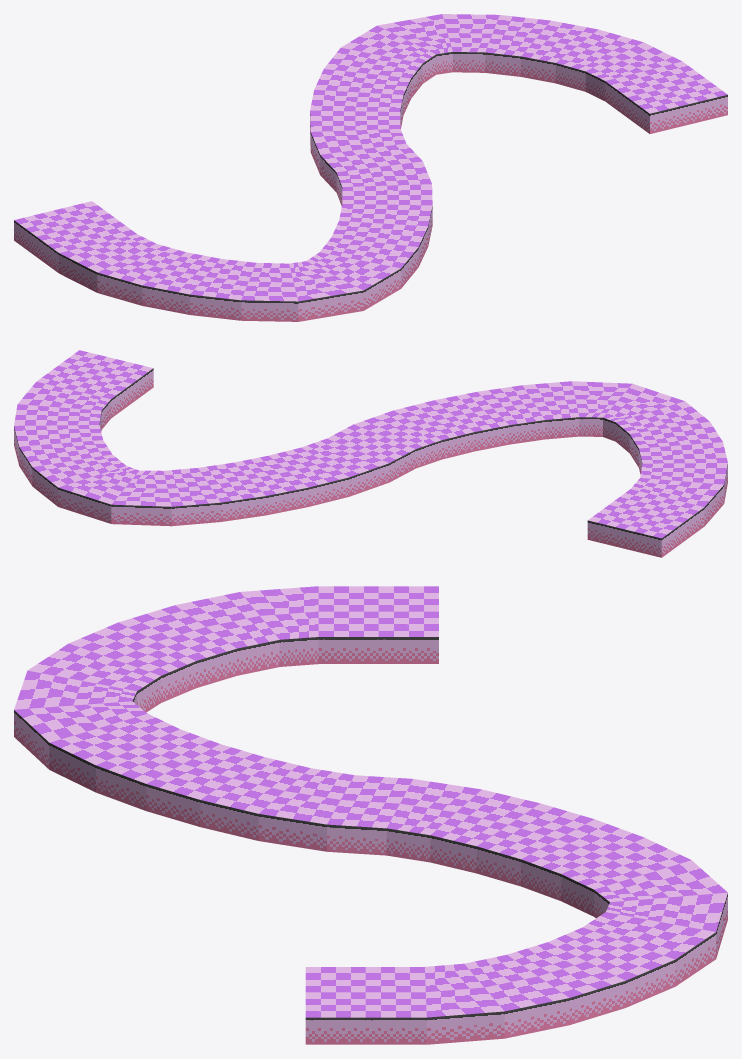
The model's file is rotating_plat.glb.
The picture shows the model from 3 angles, top to bottom: view 1: azimuth 30°, elevation 25°; view 2: azimuth 150°, elevation 25°; view 3: azimuth 270°, elevation 25°; orthographic projection. The views are drawn at different scales.
Visible parts, largest first — view 1: Halfcube; view 2: Halfcube; view 3: Halfcube.
Part boxes in pixels (left/top/right/bottom): Halfcube: left=14, top=14, right=727, bottom=321; Halfcube: left=14, top=350, right=727, bottom=557; Halfcube: left=14, top=586, right=727, bottom=1044.
Bounding box in the file's own units: 34 × 1 × 23.78.
1 material, 1 textured.
